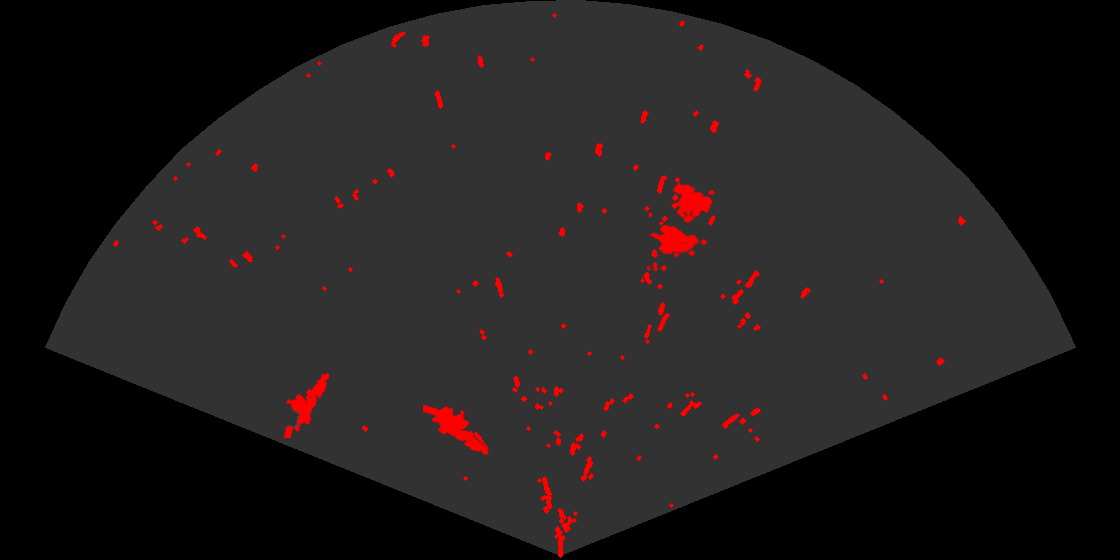cage: (649, 181, 714, 271)
frogman: (423, 403, 490, 457), (282, 371, 331, 438)
